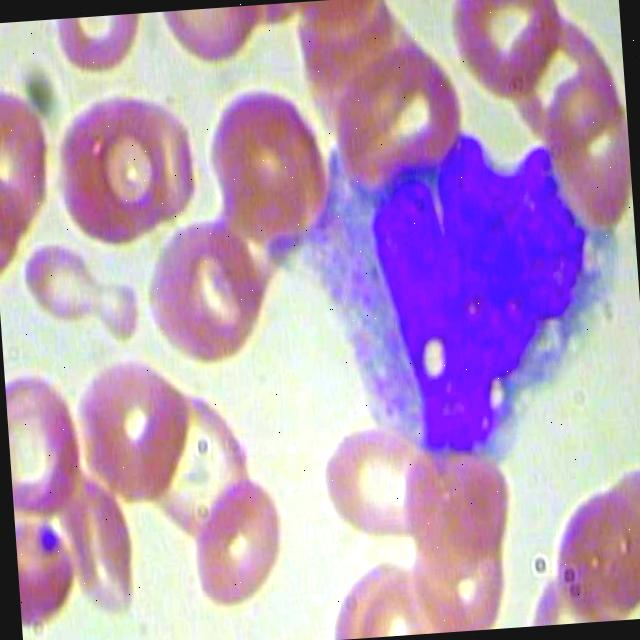RBC: (132, 214, 288, 378), (2, 352, 102, 533), (182, 462, 290, 614), (441, 0, 565, 116), (12, 506, 92, 640)
WBC: (283, 118, 636, 485)
